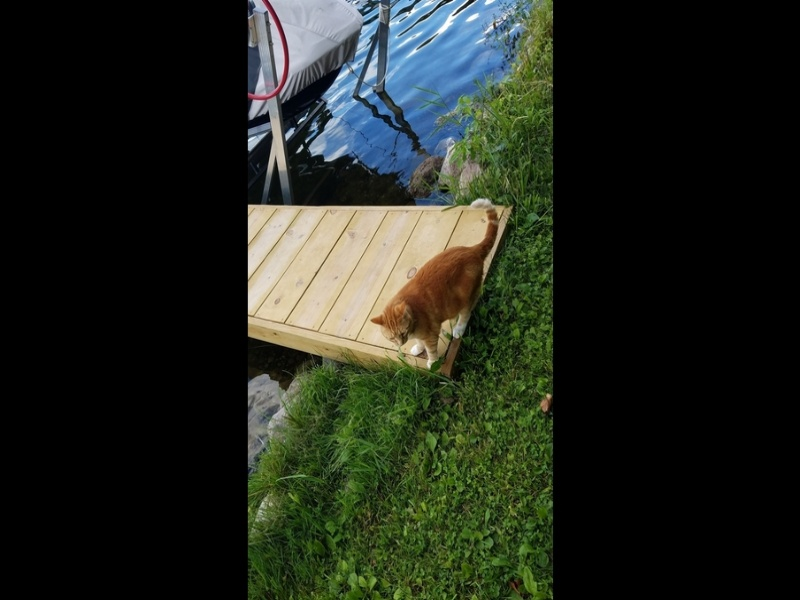cat: (368, 195, 500, 372)
